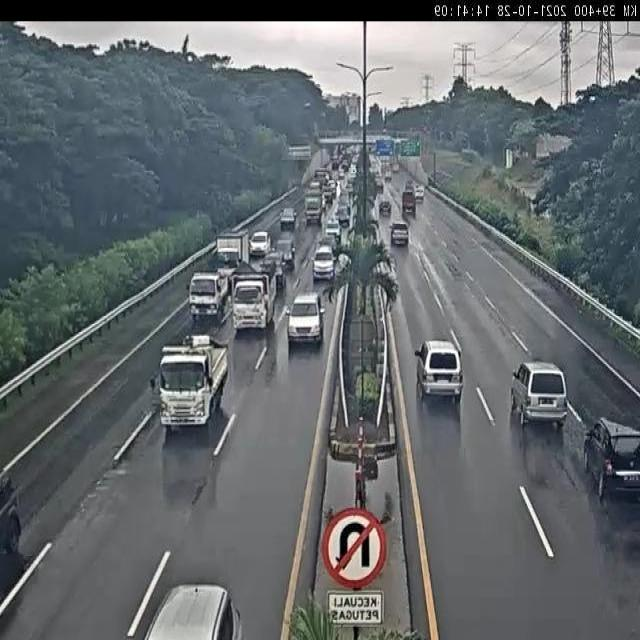Car: (138, 583, 244, 638), (582, 416, 640, 501), (0, 473, 31, 621), (510, 360, 568, 428), (414, 341, 461, 405), (287, 291, 325, 346), (312, 246, 336, 282), (275, 236, 296, 273), (263, 249, 285, 279), (249, 231, 272, 258), (216, 265, 238, 293), (389, 222, 408, 246), (279, 208, 298, 232), (325, 216, 341, 241), (336, 205, 350, 227), (318, 234, 334, 252), (322, 186, 334, 208), (309, 180, 321, 200), (378, 200, 392, 217), (414, 184, 424, 202), (374, 175, 384, 192), (348, 164, 357, 180), (405, 180, 414, 191), (385, 168, 392, 181), (392, 162, 399, 173)
Truck: (156, 332, 229, 428), (231, 266, 279, 333), (188, 269, 232, 325), (215, 231, 249, 270), (304, 194, 322, 224), (402, 187, 416, 217), (316, 168, 330, 187)
